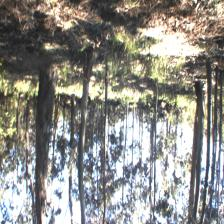trunktrack_idkeyframe: (36, 70, 60, 176), (78, 61, 94, 190), (191, 84, 204, 179), (206, 67, 213, 159), (103, 70, 108, 146)
